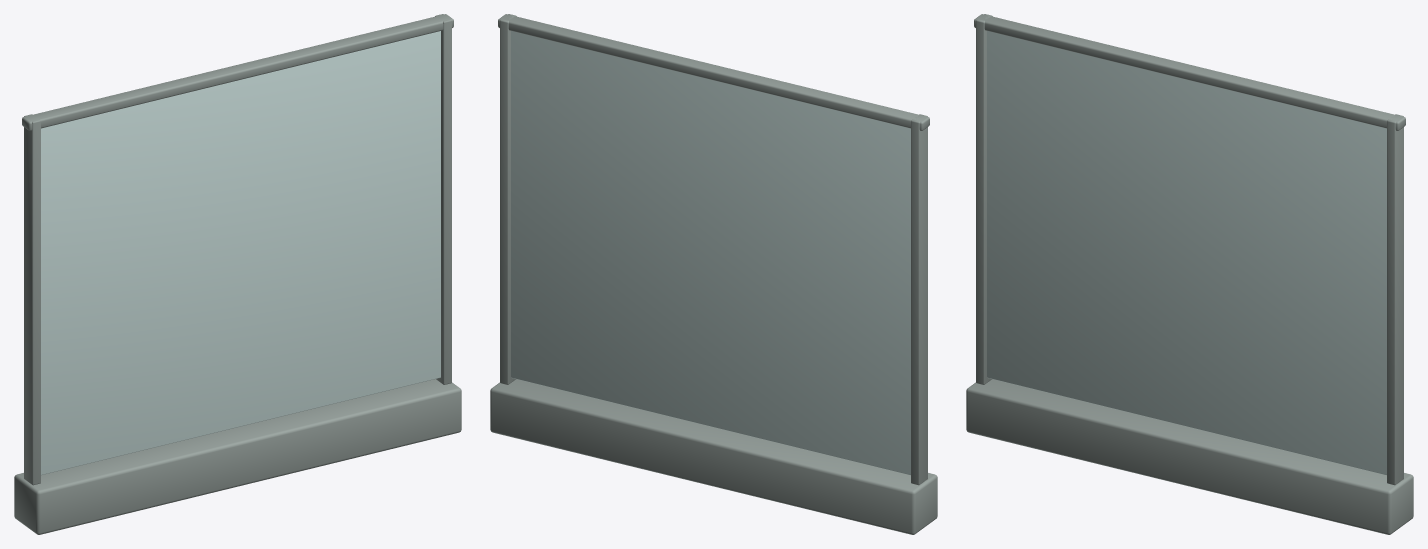
The model's file is balcony-rail-glass.glb.
The picture shows the model from 3 angles, left to right: view 1: azimuth 30°, elevation 25°; view 2: azimuth 150°, elevation 25°; view 3: azimuth 330°, elevation 25°; orthographic projection.
Visible parts, largest first — view 1: balcony-rail-glass; view 2: balcony-rail-glass; view 3: balcony-rail-glass.
Part boxes in pixels (left/top/right/bottom): balcony-rail-glass: left=14, top=14, right=461, bottom=534; balcony-rail-glass: left=490, top=14, right=937, bottom=534; balcony-rail-glass: left=966, top=14, right=1413, bottom=534.
Size of the model in its own units: 1.2 by 1.1 by 0.12.
